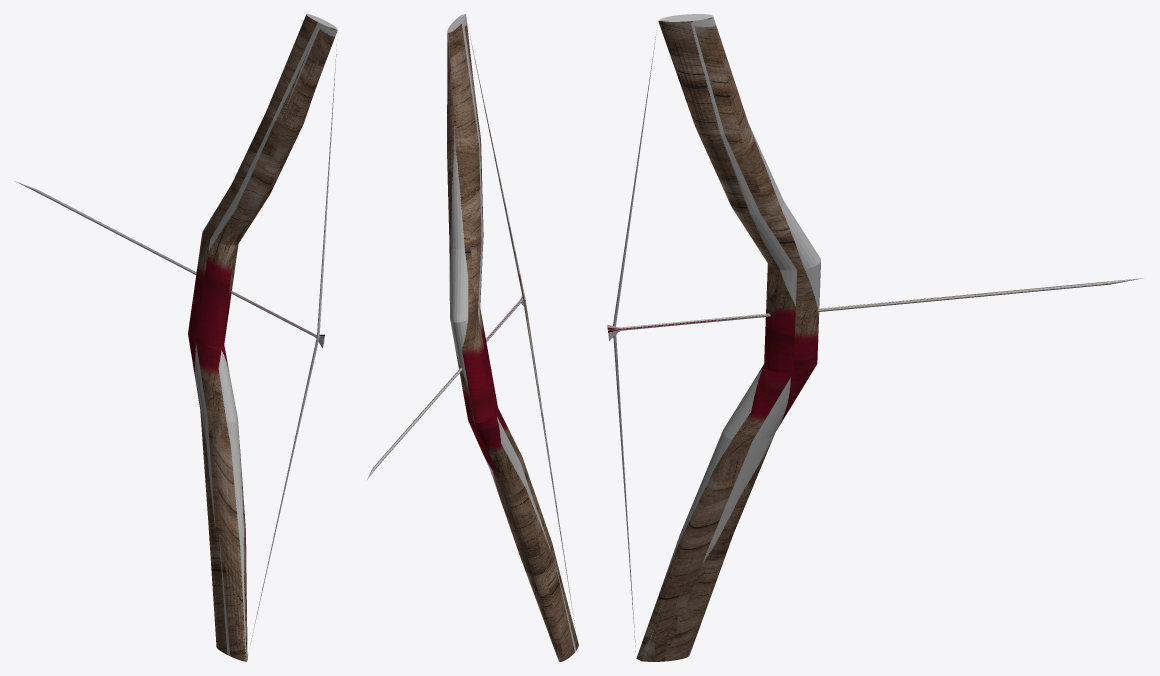
File: Arco2.obj
3 renders of one model, left to right at view 1: azimuth 30°, elevation 25°; view 2: azimuth 150°, elevation 25°; view 3: azimuth 270°, elevation 25°, orthographic. The views are drawn at different scales.
Parts seen in each view (by area): view 1: Cilindro; view 2: Cilindro; view 3: Cilindro.
Boxes of the visible parts, x1,y1,x2,y2 form: Cilindro: (15, 14, 337, 661); Cilindro: (366, 14, 578, 661); Cilindro: (607, 14, 1143, 661).
Bounding box in the file's own units: 0.1936 × 0.9705 × 0.6791.
Materials: 1 (1 with a texture image).
